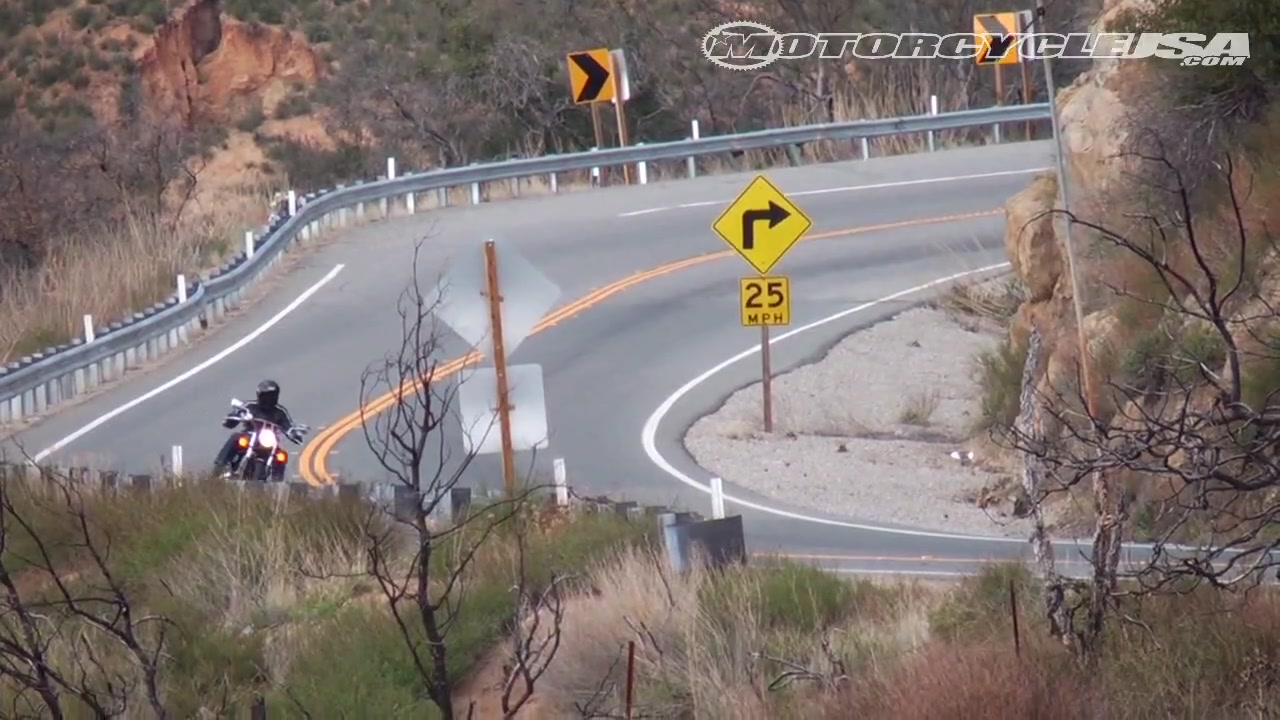motorbike: (214, 398, 305, 491)
